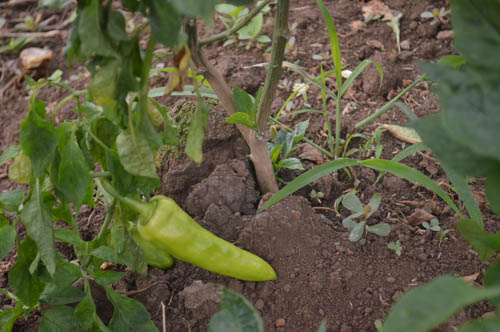ChiliPepper: (142, 195, 282, 279)
